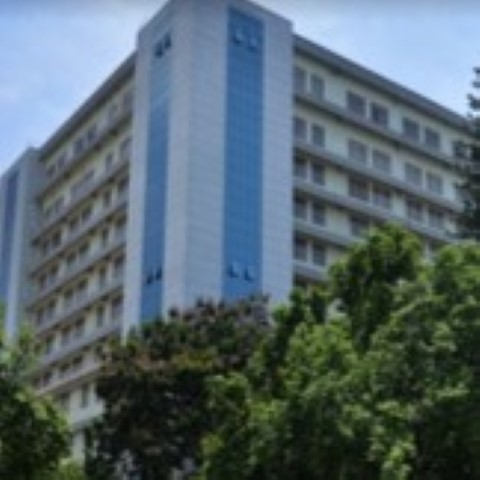Central Block: (2, 5, 480, 395)
